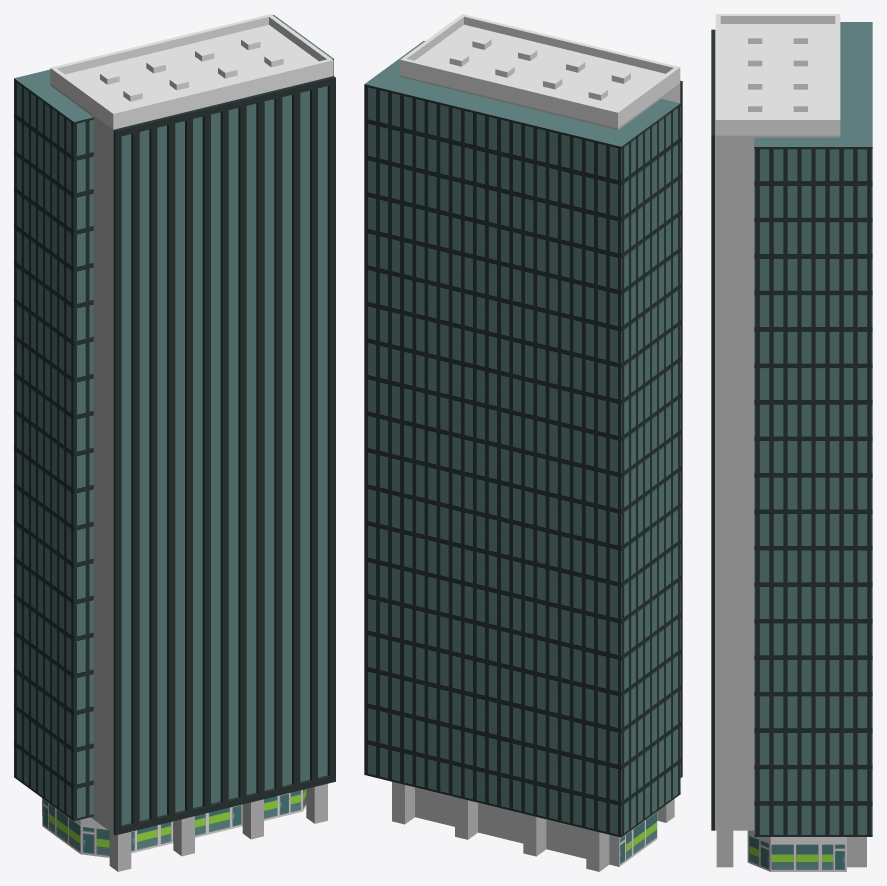
The model's file is Town_Bld-Lrg_BuildingB.FBX.
3 views of the same model, side by side, from view 1: azimuth 30°, elevation 25°; view 2: azimuth 150°, elevation 25°; view 3: azimuth 270°, elevation 25° (orthographic).
Visible parts, largest first — view 1: Town_Bld-Lrg_BuildingB; view 2: Town_Bld-Lrg_BuildingB; view 3: Town_Bld-Lrg_BuildingB.
Boxes of the visible parts, x1,y1,x2,y2 form: Town_Bld-Lrg_BuildingB: (14, 14, 335, 871); Town_Bld-Lrg_BuildingB: (364, 14, 682, 871); Town_Bld-Lrg_BuildingB: (711, 14, 872, 871).
Size of the model in its own units: 1427 by 3985 by 776.
